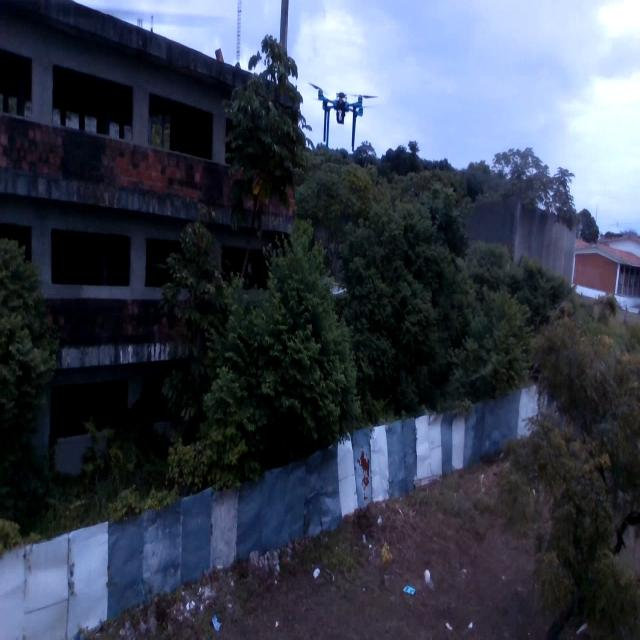-uav-: (301, 68, 382, 159)
